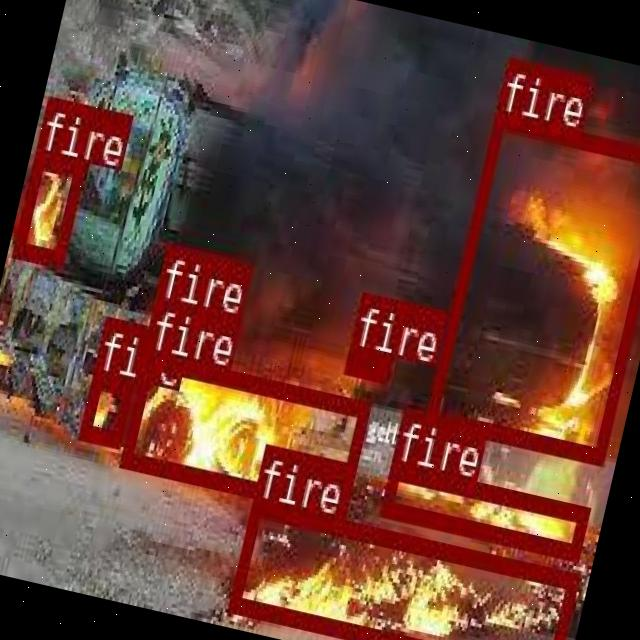fire: (423, 111, 640, 460), (227, 498, 577, 640), (118, 348, 370, 516), (380, 458, 588, 556), (10, 148, 84, 263), (78, 370, 134, 446), (144, 297, 198, 353), (344, 347, 392, 378)
